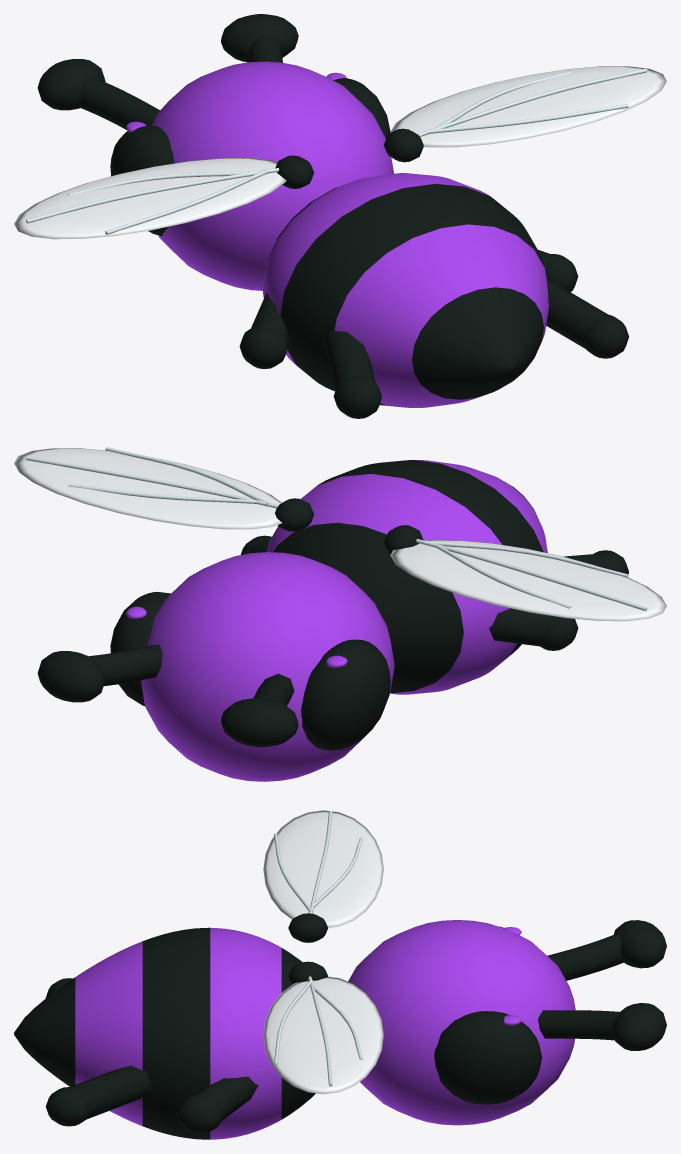
Rendered from Bee_Purple.fbx.
3 renders of one model, top to bottom at view 1: azimuth 30°, elevation 25°; view 2: azimuth 150°, elevation 25°; view 3: azimuth 270°, elevation 25°, orthographic. The views are drawn at different scales.
Parts seen in each view (by area): view 1: Gameplay_Bee_Purple_Color, Gameplay_Bee_Purple_Dark, Gameplay_Bee_Purple_LeftMembrane, Gameplay_Bee_Purple_RightMembrane, Bee_Purple_Grip_RightRear, Bee_Purple_Grip_LeftRear, Bee_Purple_Grip_LeftFront, Bee_Purple_Grip_RightFront; view 2: Gameplay_Bee_Purple_Color, Gameplay_Bee_Purple_Dark, Gameplay_Bee_Purple_LeftMembrane, Gameplay_Bee_Purple_RightMembrane, Bee_Purple_Grip_LeftFront, Bee_Purple_Grip_LeftRear; view 3: Gameplay_Bee_Purple_Color, Gameplay_Bee_Purple_Dark, Gameplay_Bee_Purple_RightMembrane, Gameplay_Bee_Purple_LeftMembrane, Bee_Purple_Grip_RightRear, Bee_Purple_Grip_RightFront.
Part boxes in pixels (x1=…): Gameplay_Bee_Purple_Color: x1=125, y1=61, x2=548, y2=407; Gameplay_Bee_Purple_Dark: x1=37, y1=14, x2=544, y2=407; Gameplay_Bee_Purple_LeftMembrane: x1=14, y1=158, x2=286, y2=239; Gameplay_Bee_Purple_RightMembrane: x1=390, y1=66, x2=666, y2=147; Bee_Purple_Grip_RightRear: x1=546, y1=278, x2=628, y2=358; Bee_Purple_Grip_LeftRear: x1=324, y1=330, x2=381, y2=418; Bee_Purple_Grip_LeftFront: x1=239, y1=293, x2=288, y2=368; Bee_Purple_Grip_RightFront: x1=538, y1=250, x2=578, y2=291; Gameplay_Bee_Purple_Color: x1=125, y1=459, x2=547, y2=781; Gameplay_Bee_Purple_Dark: x1=37, y1=460, x2=543, y2=750; Gameplay_Bee_Purple_LeftMembrane: x1=390, y1=539, x2=666, y2=621; Gameplay_Bee_Purple_RightMembrane: x1=14, y1=447, x2=282, y2=529; Bee_Purple_Grip_LeftFront: x1=489, y1=608, x2=578, y2=650; Bee_Purple_Grip_LeftRear: x1=564, y1=550, x2=628, y2=574; Gameplay_Bee_Purple_Color: x1=75, y1=920, x2=575, y2=1139; Gameplay_Bee_Purple_Dark: x1=14, y1=913, x2=666, y2=1139; Gameplay_Bee_Purple_RightMembrane: x1=263, y1=976, x2=383, y2=1094; Gameplay_Bee_Purple_LeftMembrane: x1=263, y1=810, x2=383, y2=927; Bee_Purple_Grip_RightRear: x1=45, y1=1065, x2=151, y2=1126; Bee_Purple_Grip_RightFront: x1=176, y1=1076, x2=258, y2=1133.
Size of the model in its own units: 329 by 104 by 320.
